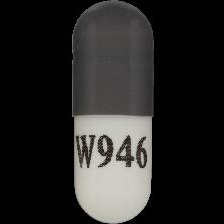64679-946: (0, 0, 224, 224)
